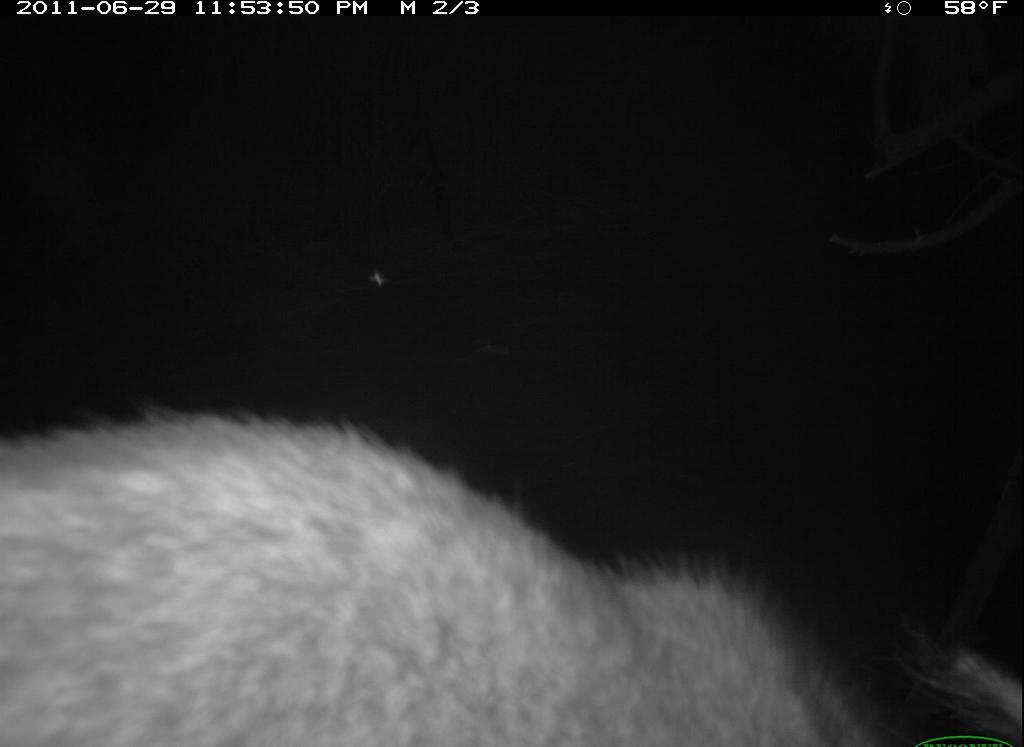raccoon: (6, 399, 1019, 744)
